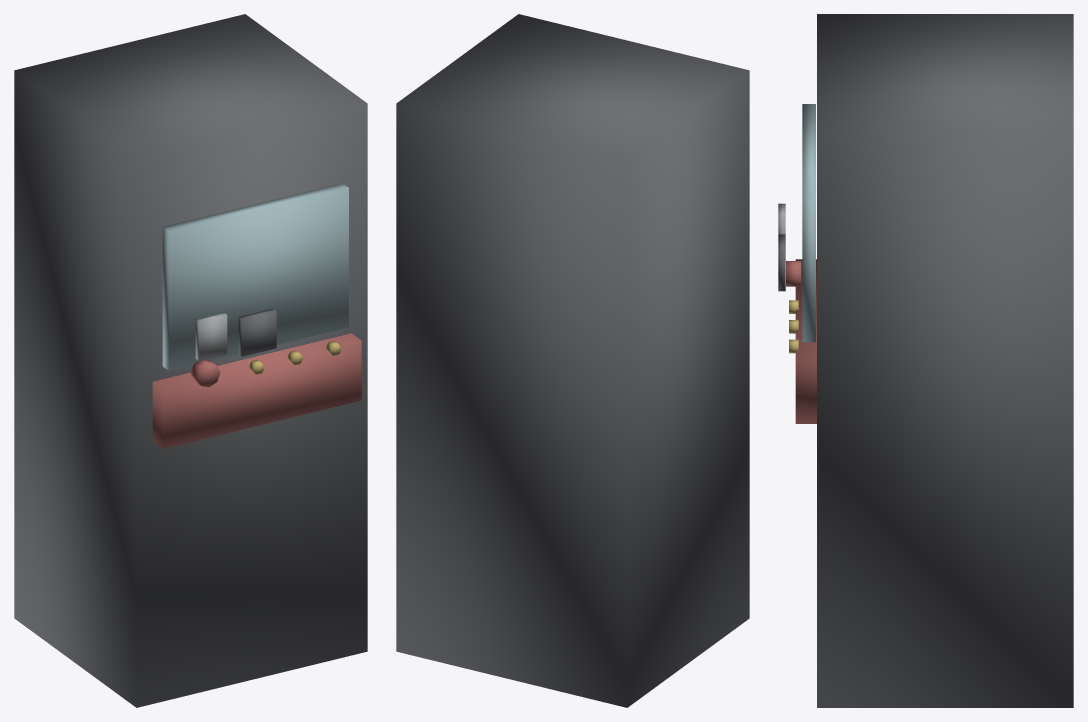
File: cocktail_arcade__weathered.glb
3 renders of one model, left to right at view 1: azimuth 30°, elevation 25°; view 2: azimuth 150°, elevation 25°; view 3: azimuth 270°, elevation 25°, orthographic. The views are drawn at different scales.
Parts seen in each view (by area): view 1: world; view 2: world; view 3: world.
Part boxes in pixels (left/top/right/bottom): world: left=14, top=14, right=367, bottom=707; world: left=396, top=14, right=749, bottom=707; world: left=778, top=14, right=1073, bottom=707.
Bounding box in the file's own units: 0.72 × 1.63 × 0.7596.
